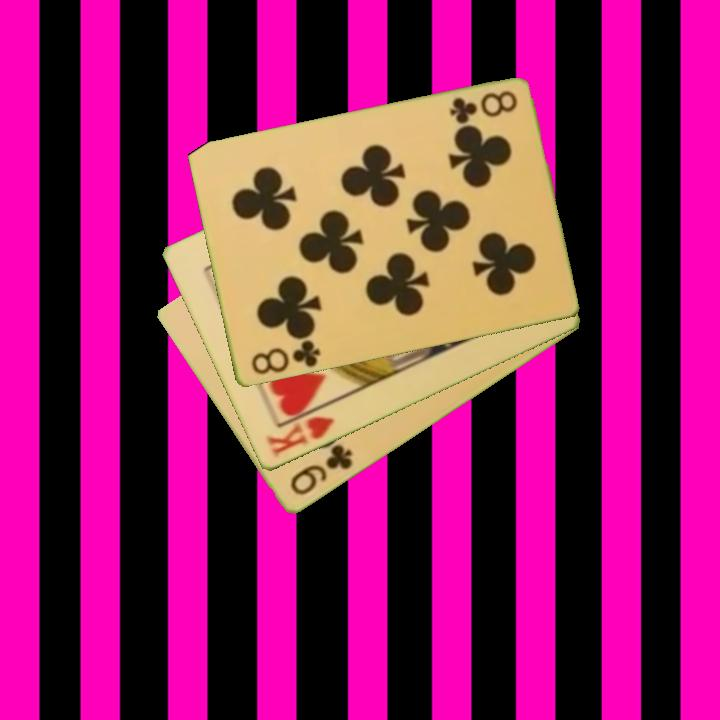8c: (247, 334, 323, 378), (445, 88, 520, 127)
9c: (286, 441, 356, 499)
Kh: (263, 401, 337, 461)
